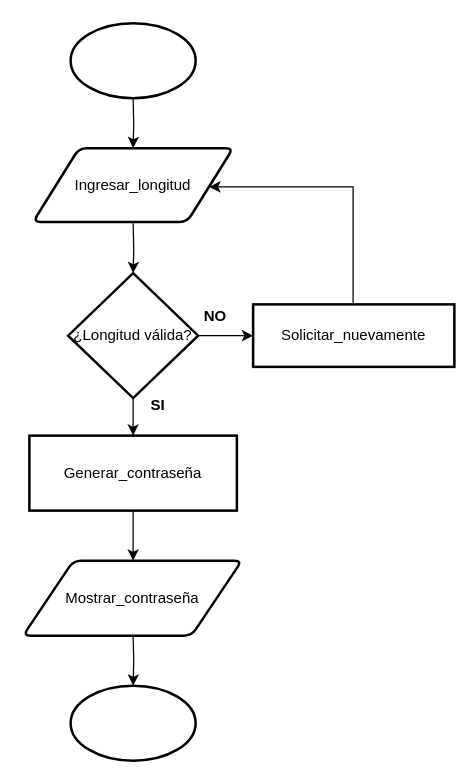
Image size: 476x783. Some labels were removed from this diagram. Here are the shapes that lost their labels. From the top down, the box of each, then its label:
(69, 21, 196, 99): Inicio
(69, 684, 196, 761): Final
